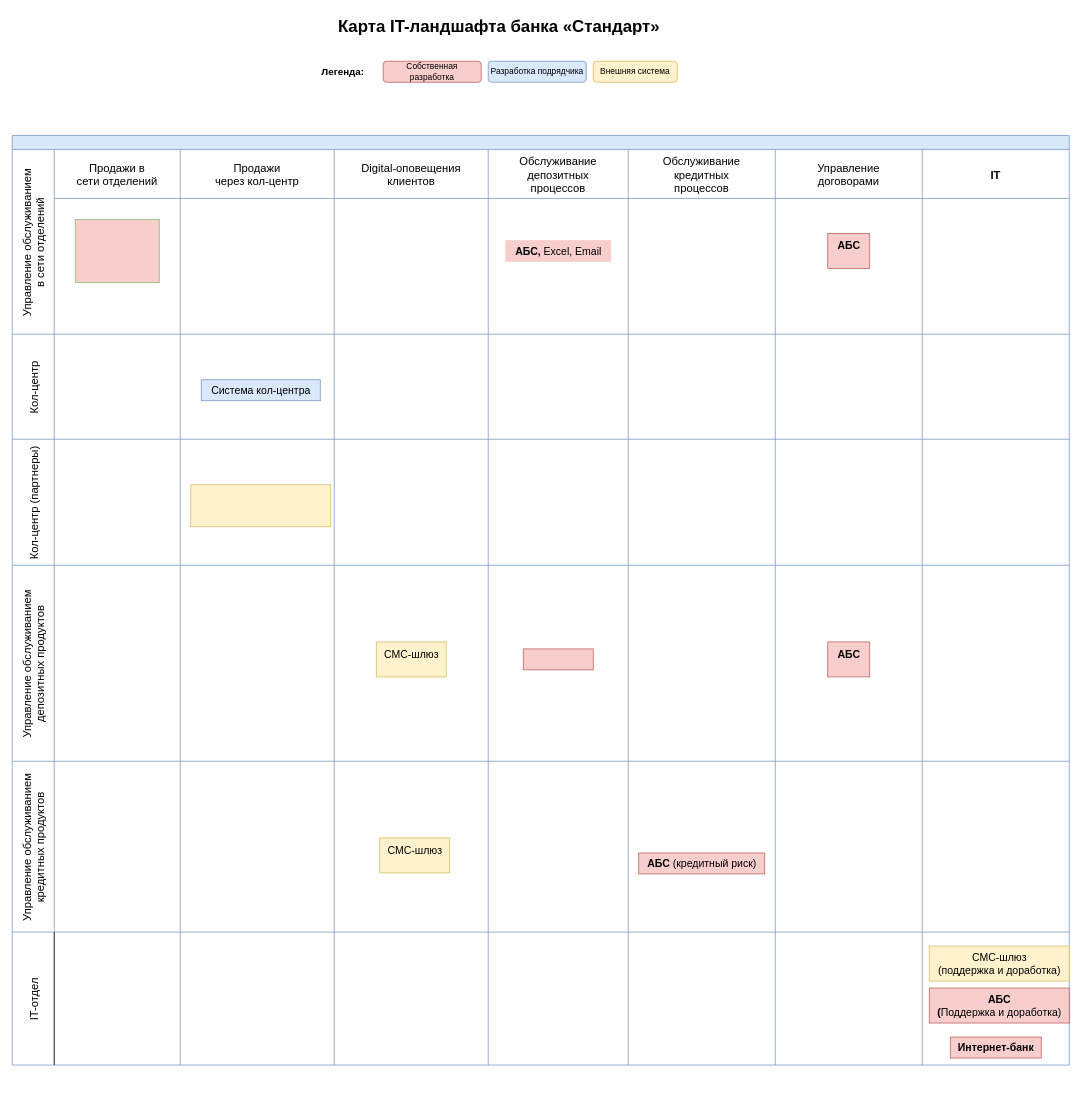
Some shapes in this 1089 by 1098 pixel diagram are drawn without their labels. The shapes that lost their labels are listed below. From the top down, each one's centre as x and y in pixels, then its label:
[117,250]: АБС (оформление депозитов), Email
[260,505]: Система партнерского кол-центра
[558,659]: АБС, Excel
